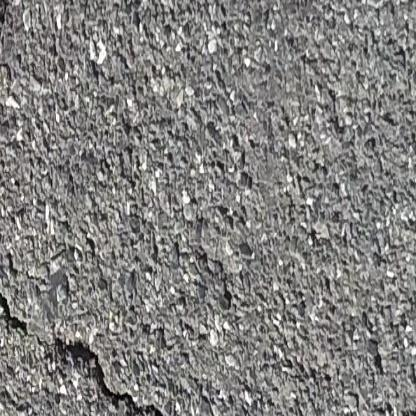Cracks: (52, 334, 198, 416), (0, 0, 17, 231), (0, 275, 33, 339)
